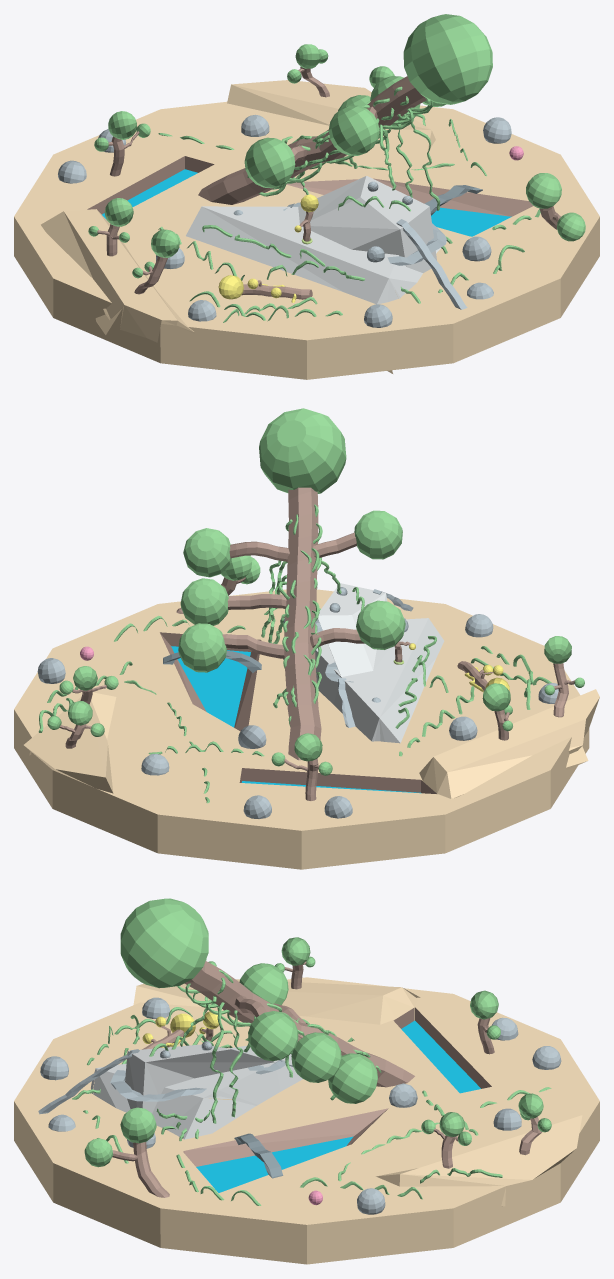
The model's file is Island2.fbx.
3 renders of one model, top to bottom at view 1: azimuth 30°, elevation 25°; view 2: azimuth 150°, elevation 25°; view 3: azimuth 270°, elevation 25°, orthographic.
Visible parts, largest first — view 1: mesh848349083, mesh234647740, mesh440218312, mesh1915784330, mesh811399109, mesh1712419774, mesh338651967, mesh748509293, mesh1152158325, mesh1249463173, mesh2037880662, mesh1147453232 (+13 smaller); view 2: mesh848349083, mesh440218312, mesh234647740, mesh811399109, mesh1326693537, mesh1915784330, mesh102459757, mesh810480189, mesh1792948727, mesh1684127829, mesh1322581241, mesh688346012 (+5 smaller); view 3: mesh848349083, mesh234647740, mesh440218312, mesh102459757, mesh810480189, mesh1326693537, mesh811399109, mesh338651967, mesh1617666880, mesh1383328701, mesh2105695159, mesh1712419774 (+13 smaller).
Part boxes in pixels (x1,y1,x2,y2): mesh848349083: (14, 80, 599, 379); mesh234647740: (403, 14, 492, 104); mesh440218312: (198, 76, 426, 204); mesh1915784330: (328, 105, 379, 155); mesh811399109: (244, 137, 295, 188); mesh1712419774: (396, 219, 467, 309); mesh338651967: (526, 173, 561, 208); mesh748509293: (259, 97, 430, 196); mesh1152158325: (557, 212, 585, 241); mesh1249463173: (104, 198, 133, 226); mesh2037880662: (108, 111, 136, 139); mesh1147453232: (151, 229, 179, 257); mesh848349083: (14, 583, 599, 869); mesh440218312: (284, 487, 321, 760); mesh234647740: (259, 408, 346, 493); mesh811399109: (356, 600, 405, 649); mesh1326693537: (178, 623, 227, 672); mesh1915784330: (354, 510, 402, 559); mesh102459757: (183, 528, 231, 577); mesh810480189: (180, 578, 228, 625); mesh1792948727: (222, 634, 284, 658); mesh1684127829: (229, 541, 289, 561); mesh1322581241: (227, 594, 286, 609); mesh688346012: (310, 628, 364, 647); mesh848349083: (14, 977, 599, 1264); mesh234647740: (120, 898, 208, 988); mesh440218312: (184, 961, 414, 1087); mesh102459757: (248, 1011, 298, 1061); mesh810480189: (291, 1032, 341, 1082); mesh1326693537: (328, 1053, 377, 1103); mesh811399109: (239, 963, 288, 1005); mesh338651967: (120, 1107, 156, 1143); mesh1617666880: (110, 1070, 206, 1101); mesh1383328701: (133, 1142, 169, 1197); mesh2105695159: (234, 1133, 283, 1178); mesh1712419774: (38, 1049, 139, 1114).
Size of the model in its own units: 161 by 96.75 by 161.
